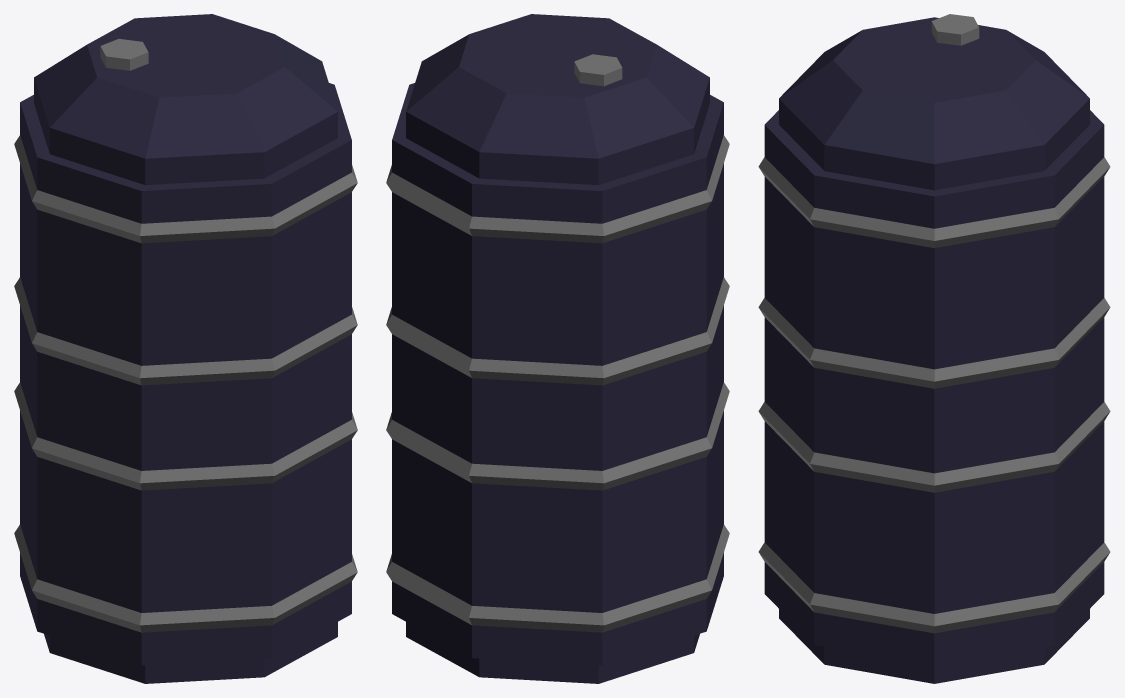
File: Barrel.glb
3 views of the same model, side by side, from view 1: azimuth 30°, elevation 25°; view 2: azimuth 150°, elevation 25°; view 3: azimuth 270°, elevation 25° (orthographic).
Visible parts, largest first — view 1: Barrel1; view 2: Barrel1; view 3: Barrel1.
Part boxes in pixels (x1,y1,x2,y2): Barrel1: (14,14,357,683); Barrel1: (386,14,729,683); Barrel1: (758,14,1110,683).
Size of the model in its own units: 0.68 by 1.21 by 0.68.
